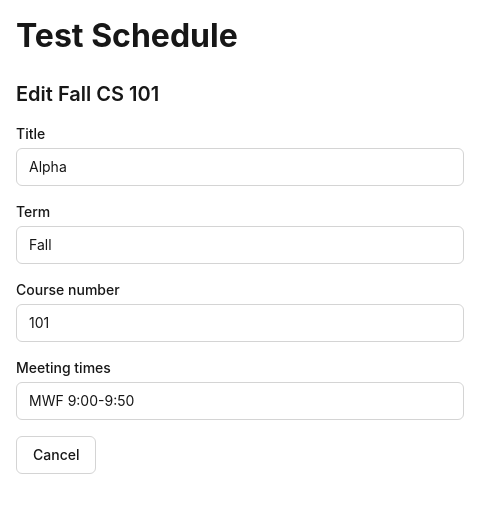
Test case: Edit course validation › shows and clears a title error as the user edits
This screenshot has width=481, height=515.
Expected: the heading "Test Schedule" is shown, left=16, top=16, right=238, bottom=55
Replace the text in the field labelled "Title" with "X": (240, 166) left=16, top=148, right=464, bottom=186
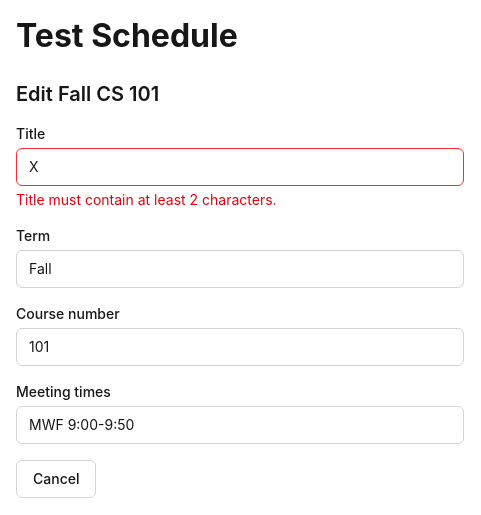
Now the text "Title must contain at least 2 characters." is shown, box left=16, top=190, right=277, bottom=208
Replace the text in the field labelled "Title" with "Algebra": (240, 166) left=16, top=148, right=464, bottom=186
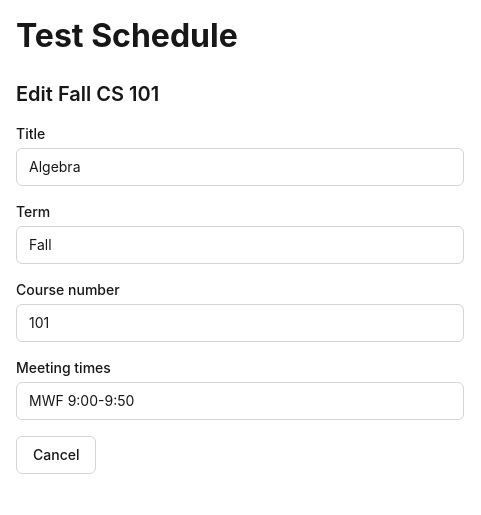
Now the text "at least 2 characters" is gone
